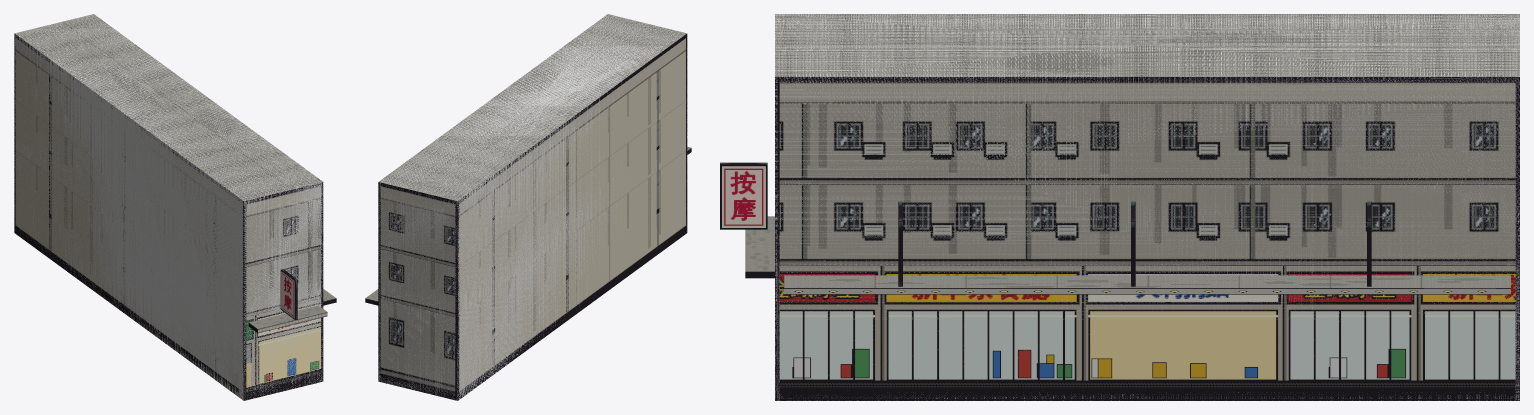
The picture shows the model from 3 angles, left to right: view 1: azimuth 30°, elevation 25°; view 2: azimuth 150°, elevation 25°; view 3: azimuth 270°, elevation 25°; orthographic projection. The views are drawn at different scales.
Parts seen in each view (by area): view 1: COL_19D-E08_0, 19D-E08; view 2: 19D-E08, COL_19D-E08_0; view 3: 19D-E08, COL_19D-E08_0.
Boxes of the visible parts, left/top/right/bottom form: COL_19D-E08_0: left=14, top=14, right=323, bottom=400; 19D-E08: left=14, top=14, right=336, bottom=400; 19D-E08: left=365, top=14, right=691, bottom=400; COL_19D-E08_0: left=378, top=14, right=687, bottom=400; 19D-E08: left=720, top=14, right=1519, bottom=400; COL_19D-E08_0: left=775, top=14, right=1519, bottom=400.
Bounding box in the file's own units: 6.85 × 12 × 26.85.
1 material, 1 textured.
